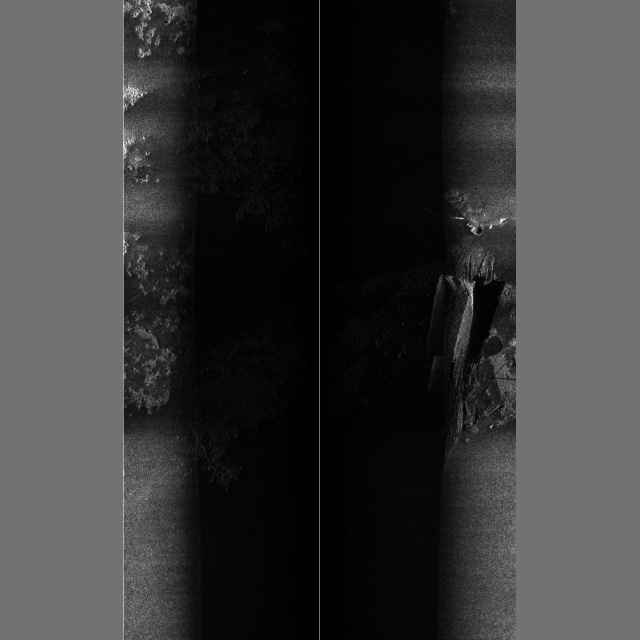Shipwreck: (425, 247, 504, 444)
